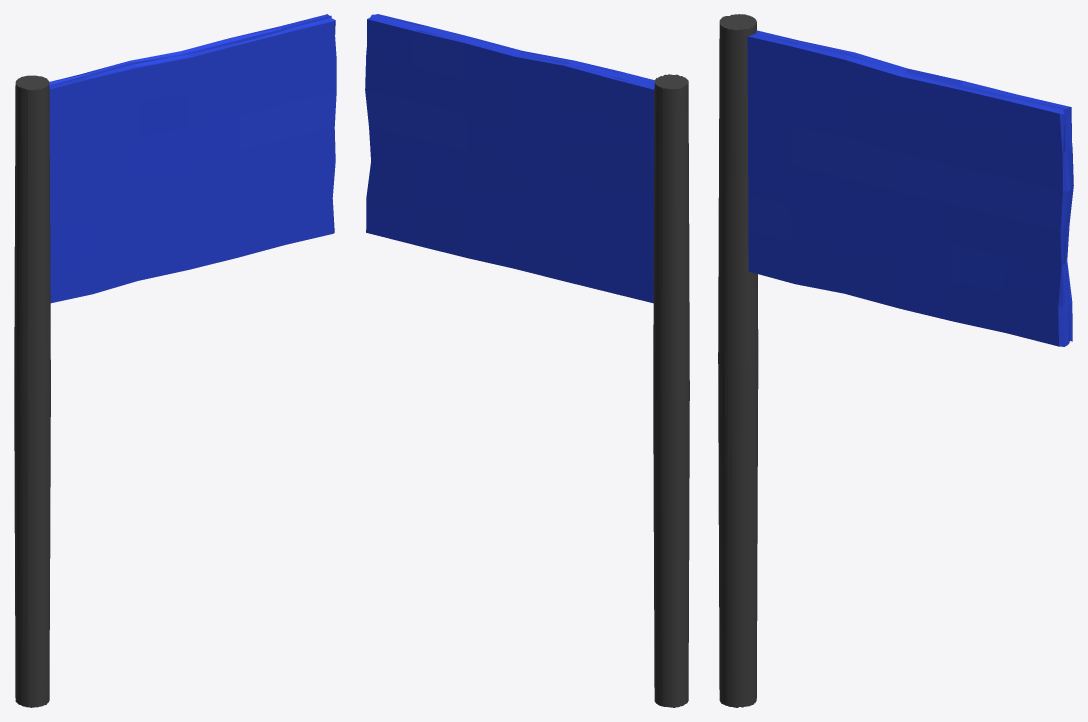
The model's file is blueflag.fbx.
3 renders of one model, left to right at view 1: azimuth 30°, elevation 25°; view 2: azimuth 150°, elevation 25°; view 3: azimuth 330°, elevation 25°, orthographic. The views are drawn at different scales.
Parts seen in each view (by area): view 1: Cube, Cylinder; view 2: Cube, Cylinder; view 3: Cube, Cylinder.
Boxes of the visible parts, bbox=[...] form: Cube: bbox=[49, 14, 336, 303]; Cylinder: bbox=[14, 75, 50, 707]; Cube: bbox=[365, 14, 654, 303]; Cylinder: bbox=[653, 74, 689, 707]; Cube: bbox=[747, 30, 1073, 346]; Cylinder: bbox=[718, 14, 758, 707].
Bounding box in the file's own units: 217 × 401 × 21.73.
